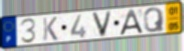3: (20, 17, 37, 44)
4: (69, 13, 88, 39)
A: (118, 8, 145, 37)
K: (42, 16, 59, 42)
Q: (143, 6, 166, 34)
V: (90, 9, 114, 38)
